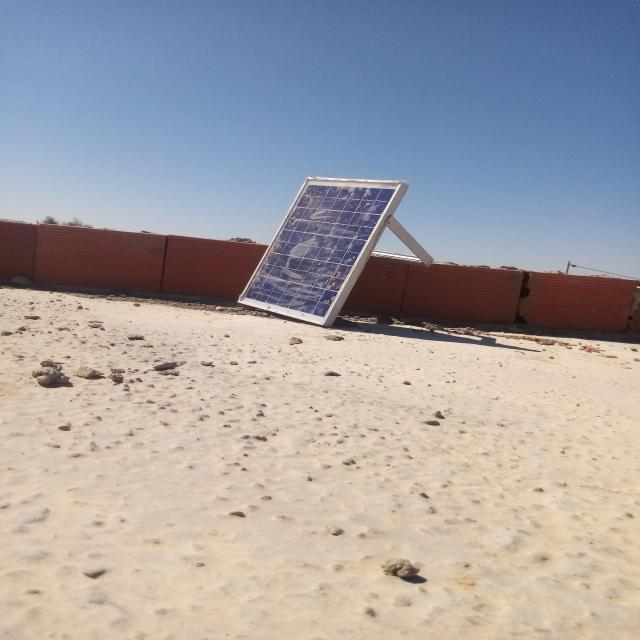faulty: (238, 178, 401, 326)
